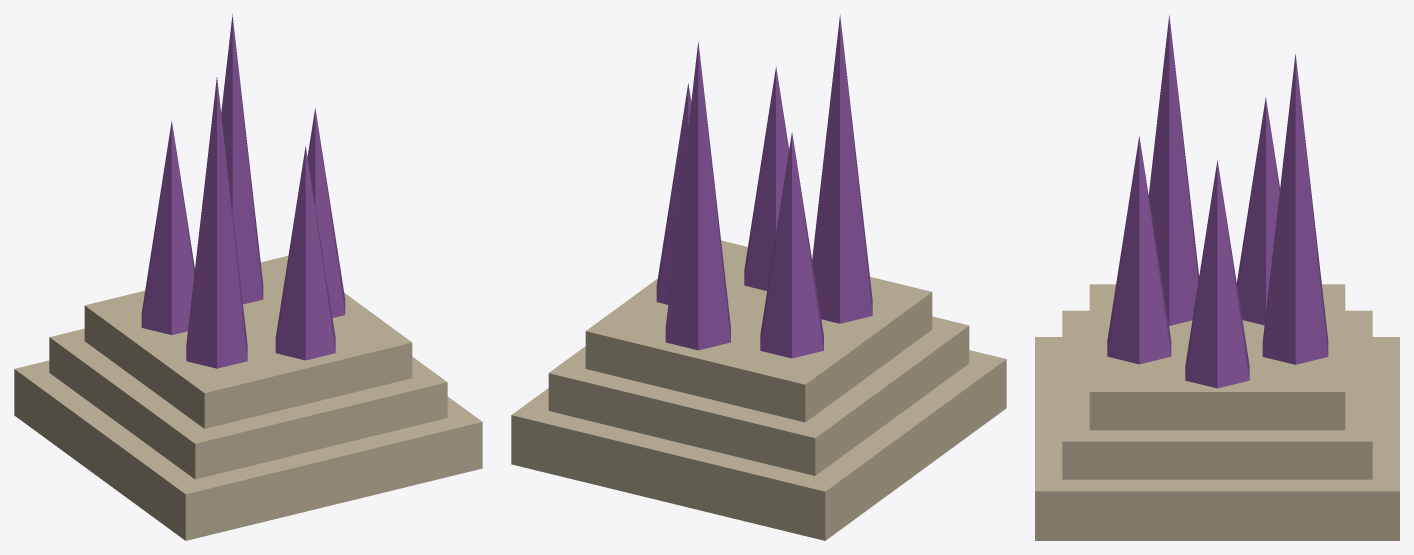
The model's file is HeartFocus_LOD2.fbx.
3 views of the same model, side by side, from view 1: azimuth 30°, elevation 25°; view 2: azimuth 150°, elevation 25°; view 3: azimuth 270°, elevation 25° (orthographic). The views are drawn at different scales.
Visible parts, largest first — view 1: HeartFocus_LOD2; view 2: HeartFocus_LOD2; view 3: HeartFocus_LOD2.
Part boxes in pixels (<box>): HeartFocus_LOD2: <box>14,14,482,540</box>; HeartFocus_LOD2: <box>511,14,1006,540</box>; HeartFocus_LOD2: <box>1035,15,1399,540</box>.
Size of the model in its own units: 200 by 255 by 200.
